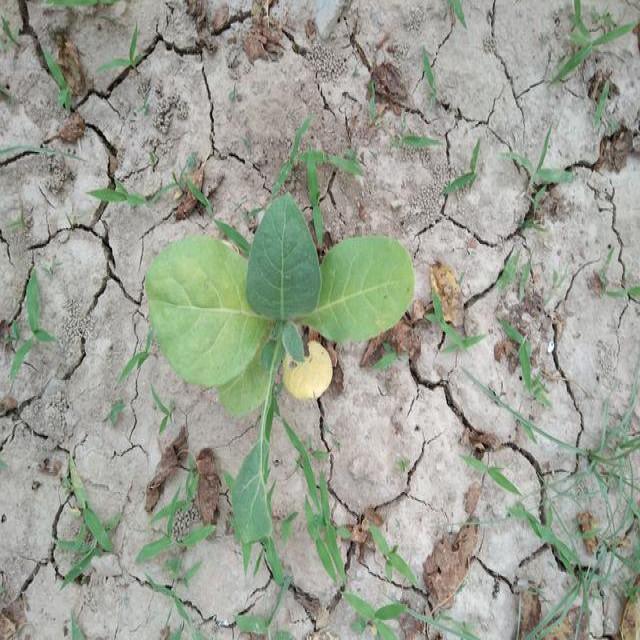crop: (146, 182, 425, 402)
